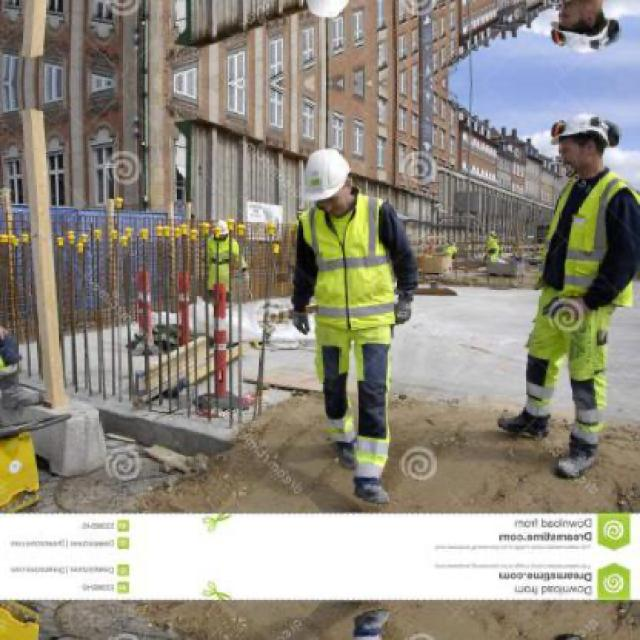con casco: (293, 132, 378, 255), (546, 109, 634, 210)
